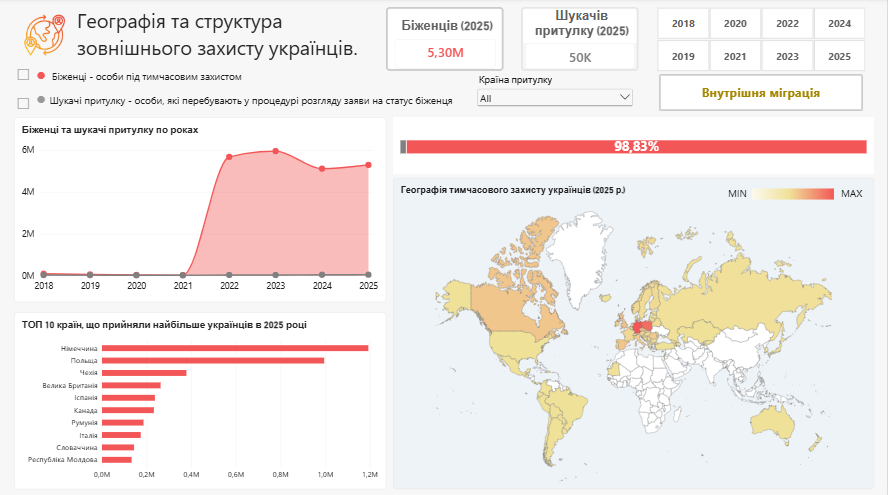

Layout of this report page (visuals, bound fields, positions):
{"tool":"powerbi","page":{"name":"Зовнішня міграція","canvas":[1920,1080],"ordinal":1},"visuals":[{"type":"slicer","fields":{"Values":["BI_ukrainian_abroad_final.Категорія шукачів притулку"]},"box":[32.4,134.1,40.3,140.2],"z":0,"group":"g1"},{"type":"actionButton","box":[1425.6,164.2,440.6,79.9],"z":0},{"type":"image","box":[28.1,34.6,140.4,90.7],"z":1000},{"type":"textbox","box":[79.1,112.1,924.5,144.7],"z":1000,"group":"g1"},{"type":"textbox","box":[168.5,19.4,645.8,162],"z":2000},{"type":"slicer","fields":{"Values":["BI_ukrainian_abroad_final.Країна притулку"]},"box":[1028.2,164.2,345.6,79.9],"z":3000},{"type":"hundredPercentStackedBarChart","title":"ВПО та Інші","fields":{"Series":["BI_ukrainian_abroad_final.Категорія шукачів притулку"],"Y":["Sum(BI_ukrainian_abroad_final.Value)"]},"box":[851,257,1039,123],"z":4000},{"type":"areaChart","title":"Біженці та шукачі притулку по роках","fields":{"Category":["BI_ukrainian_abroad_final.Year"],"Series":["BI_ukrainian_abroad_final.Категорія шукачів притулку"],"Y":["Sum(BI_ukrainian_abroad_final.Value)"]},"box":[32.4,257,803.5,399.6],"z":5000},{"type":"cardVisual","fields":{"Data":["BI_ukrainian_abroad_final.Кількість очікують на отримання статусу"]},"box":[1127.5,19.4,254,138],"z":6000},{"type":"cardVisual","fields":{"Data":["BI_ukrainian_abroad_final.Кількість отримали статус біженця"]},"box":[836.5,20.2,254,138],"z":7000},{"type":"group","id":"g1","title":"Group 2","box":[32.4,112.1,971.1,162.2],"z":7009,"group":"g2"},{"type":"shapeMap","fields":{"Category":["BI_ukrainian_abroad_final.Country_of_Asylum_UN_Code"],"Value":["BI_ukrainian_abroad_final.Кількість отримали статус біженця"]},"box":[851,388.8,1039,671.8],"z":8000},{"type":"group","id":"g2","title":"Group 1","box":[32.4,112.1,971.1,162.2],"z":9000},{"type":"clusteredBarChart","fields":{"Category":["BI_ukrainian_abroad_final.Країна притулку"],"Series":["BI_ukrainian_abroad_final.Категорія шукачів притулку"],"Y":["Sum(BI_ukrainian_abroad_final.Value)"]},"box":[32.4,676.1,803.5,384.5],"z":10000},{"type":"image","box":[1626.5,410.4,177.1,25.9],"z":11000},{"type":"textbox","box":[1574,405,51.8,49.7],"z":12000},{"type":"textbox","box":[1818.7,405,71.3,49.7],"z":13000},{"type":"slicer","fields":{"Values":["Календар.Year"]},"box":[1401.8,19.4,488.2,140.4],"z":14000}]}

Visuals, with their boxes in screenshot pixels (x1, y1, x2, y2), scaled from the page's 1920x1080 canvas onto the 888x495 screenshot:
slicer - BI_ukrainian_abroad_final.Категорія шукачів притулку: 15:61:34:126
actionButton: 659:75:863:112
image: 13:16:78:57
textbox: 37:51:464:118
textbox: 78:9:377:83
slicer - BI_ukrainian_abroad_final.Країна притулку: 476:75:635:112
"ВПО та Інші" hundredPercentStackedBarChart: 394:118:874:174
"Біженці та шукачі притулку по роках" areaChart: 15:118:387:301
cardVisual - BI_ukrainian_abroad_final.Кількість очікують на отримання статусу: 521:9:639:72
cardVisual - BI_ukrainian_abroad_final.Кількість отримали статус біженця: 387:9:504:73
"Group 2" group: 15:51:464:126
shapeMap - BI_ukrainian_abroad_final.Country_of_Asylum_UN_Code x BI_ukrainian_abroad_final.Кількість отримали статус біженця: 394:178:874:486
"Group 1" group: 15:51:464:126
clusteredBarChart - BI_ukrainian_abroad_final.Країна притулку x BI_ukrainian_abroad_final.Категорія шукачів притулку: 15:310:387:486
image: 752:188:834:200
textbox: 728:186:752:208
textbox: 841:186:874:208
slicer - Календар.Year: 648:9:874:73
